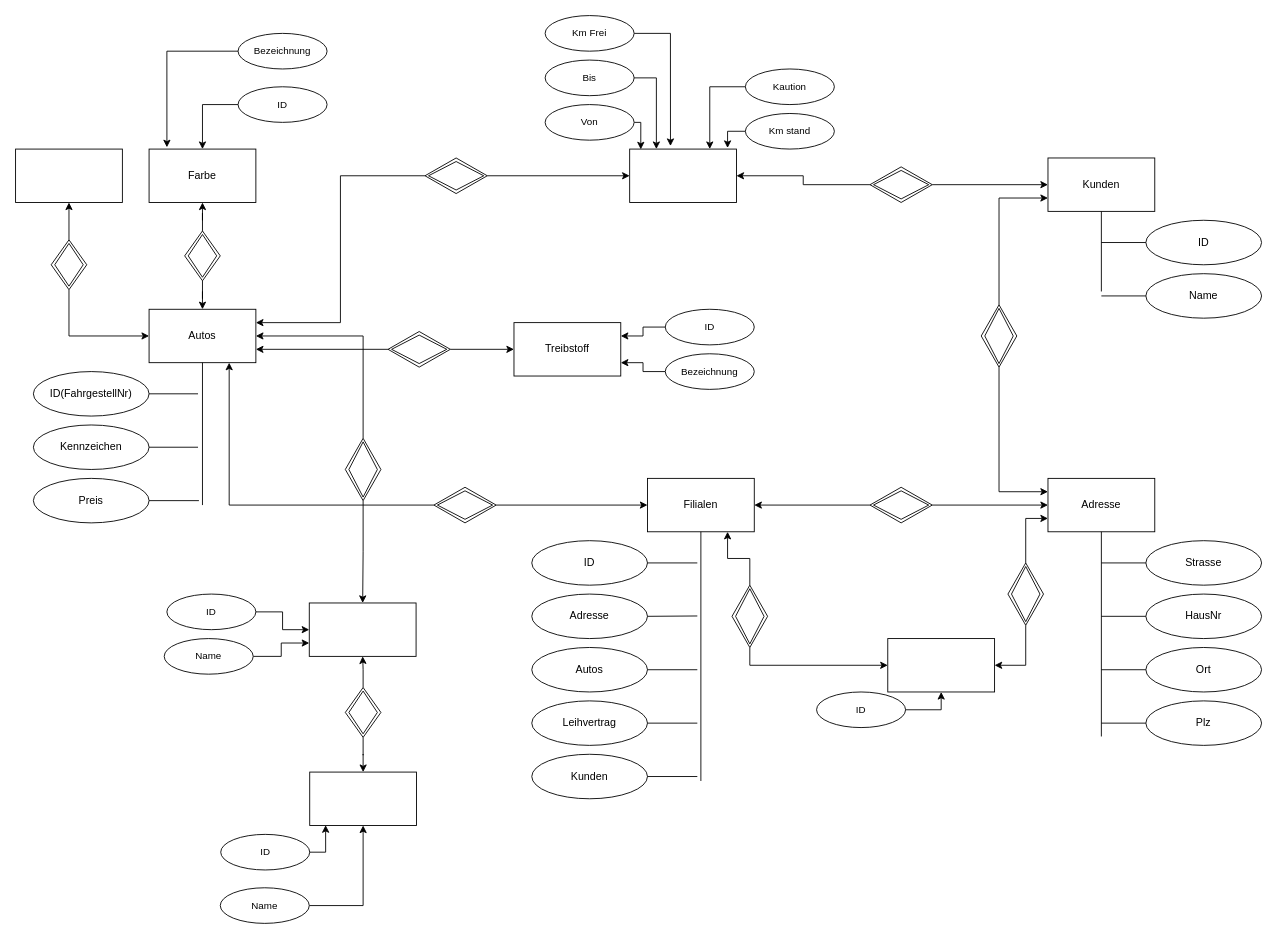
The diagram is 1277 pixels wide and 939 high, and some of its shapes have lost their labels. The shapes that lost their labels are listed below. From the top down, each one's box as (x1, y1, x2, y2) in pixels, then its label:
(15, 148, 122, 202): Motot
(629, 148, 736, 202): Vermietung
(308, 602, 416, 656): Modell
(887, 638, 995, 692): Mitarbeiter
(309, 771, 417, 825): Hersteller
